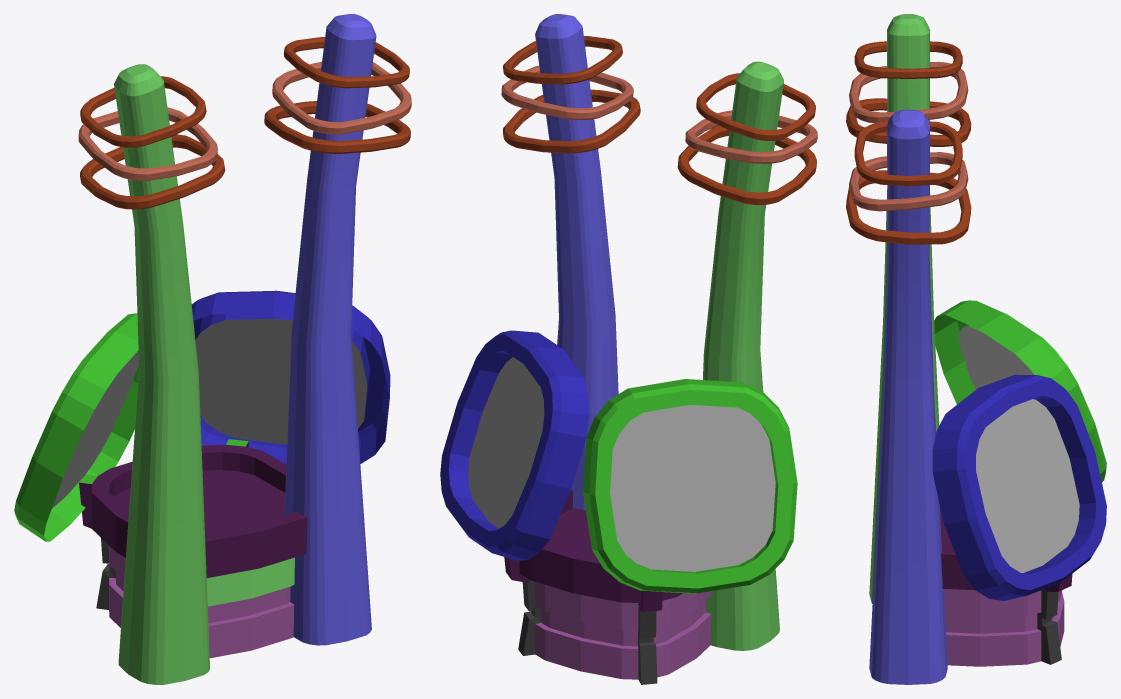
The model's file is Terminal.fbx.
The picture shows the model from 3 angles, left to right: view 1: azimuth 30°, elevation 25°; view 2: azimuth 150°, elevation 25°; view 3: azimuth 270°, elevation 25°; orthographic projection. The views are drawn at different scales.
Parts seen in each view (by area): view 1: pCylinder42; view 2: pCylinder42; view 3: pCylinder42.
Boxes of the visible parts, x1,y1,x2,y2 form: pCylinder42: (14,14,411,684); pCylinder42: (440,14,817,684); pCylinder42: (846,14,1106,684).
Bounding box in the file's own units: 4.53 × 7.12 × 2.97.
